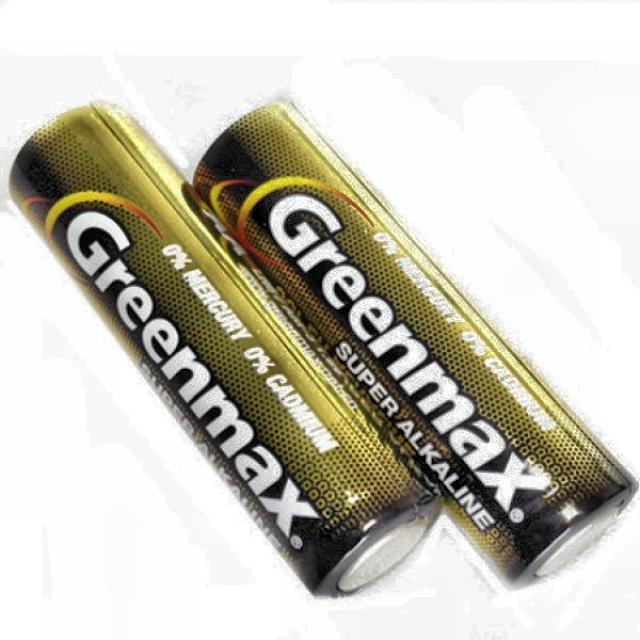Non-Valuable Waste - Batteries: (10, 105, 439, 594), (196, 106, 634, 578)
